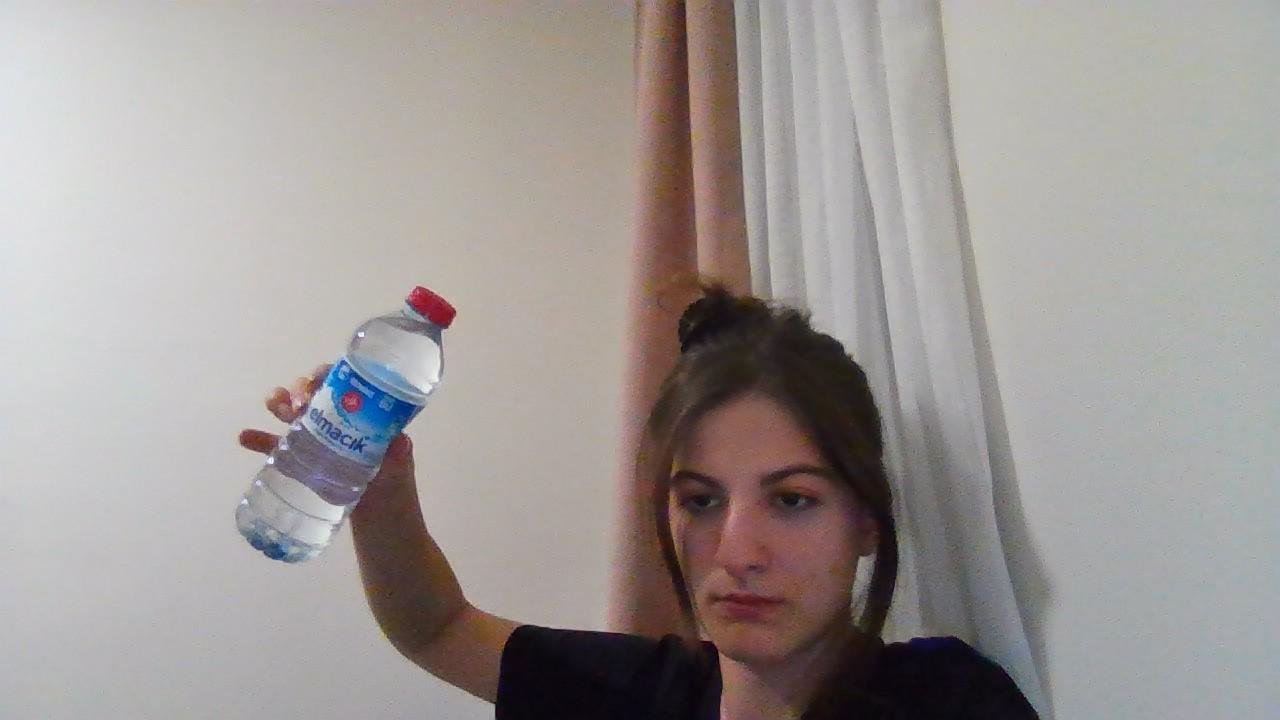bottle: (235, 280, 460, 566)
